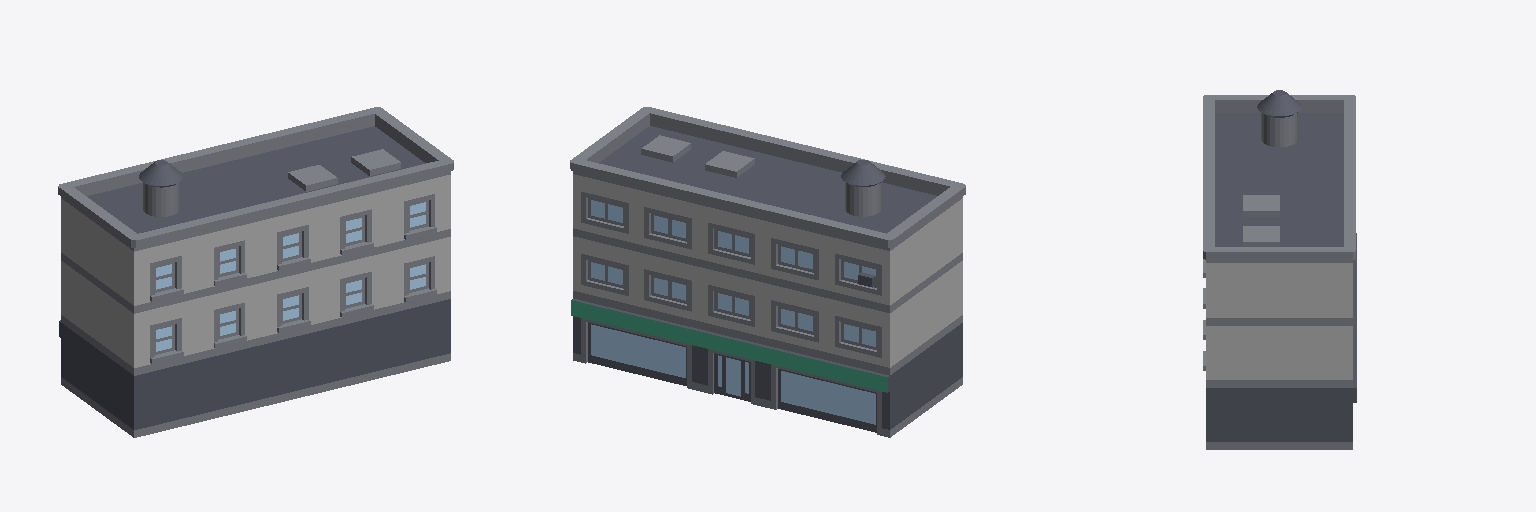
File: city_mall_f.obj
3 views of the same model, side by side, from view 1: azimuth 30°, elevation 25°; view 2: azimuth 150°, elevation 25°; view 3: azimuth 270°, elevation 25° (orthographic).
Parts seen in each view (by area): view 1: mergedBlocks; view 2: mergedBlocks; view 3: mergedBlocks.
Boxes of the visible parts, <box> form: mergedBlocks: <box>58,107,453,437</box>; mergedBlocks: <box>570,107,965,437</box>; mergedBlocks: <box>1203,90,1356,449</box>.
Bounding box in the file's own units: 1.31 × 0.9 × 0.5408.